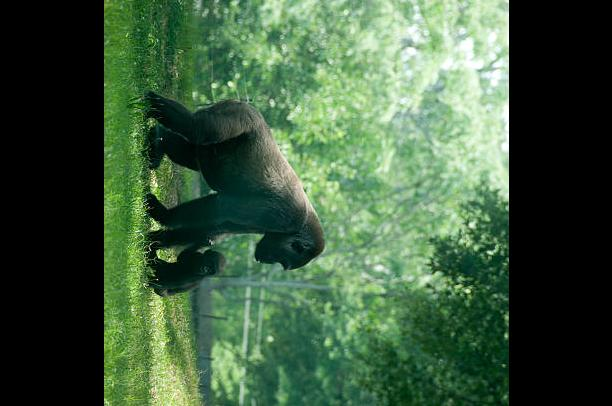gorille_Autres: (142, 89, 344, 271), (149, 239, 226, 308)
